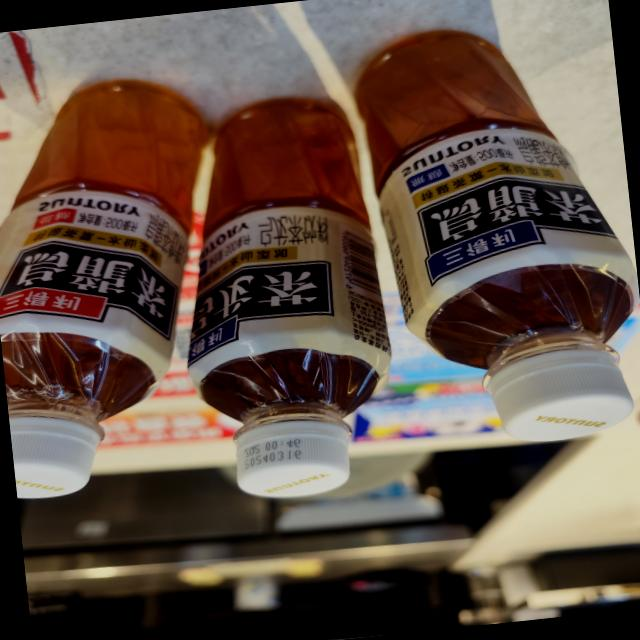bottle: (343, 10, 640, 462), (0, 67, 247, 504), (160, 87, 407, 510)
